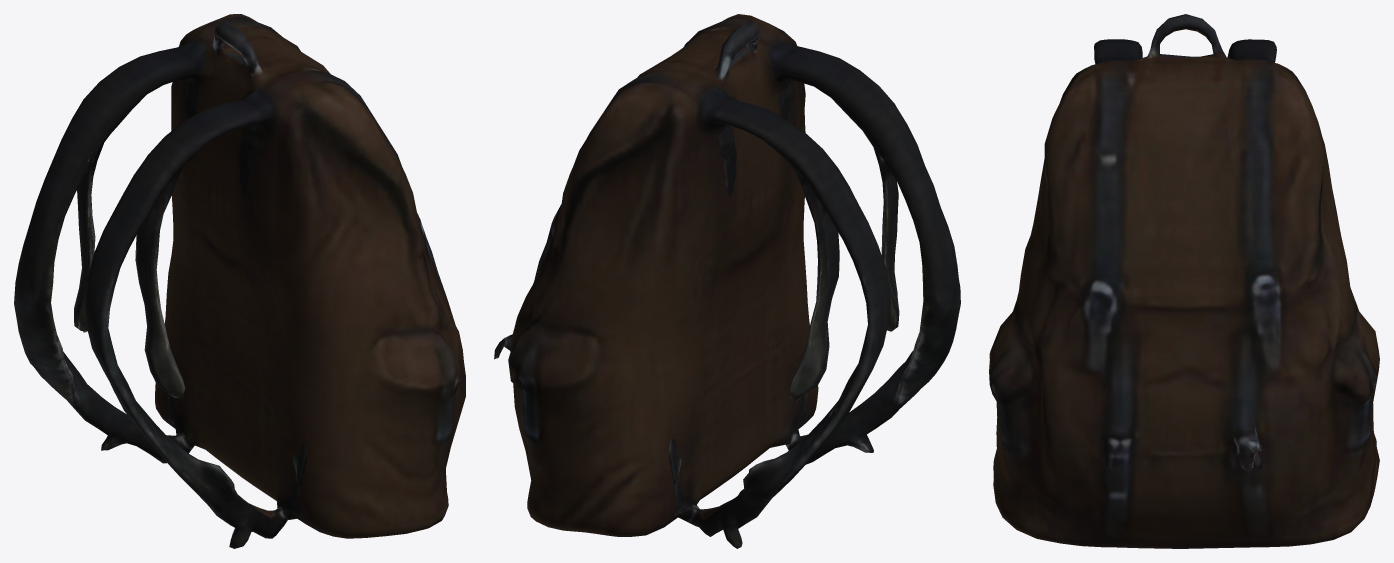
File: backpack2.fbx
The picture shows the model from 3 angles, left to right: view 1: azimuth 30°, elevation 25°; view 2: azimuth 150°, elevation 25°; view 3: azimuth 270°, elevation 25°; orthographic projection.
Visible parts, largest first — view 1: mesh; view 2: mesh; view 3: mesh.
Boxes of the visible parts, left/top/right/bottom form: mesh: left=14, top=14, right=465, bottom=548; mesh: left=494, top=14, right=960, bottom=548; mesh: left=989, top=14, right=1379, bottom=548.
Size of the model in its own units: 84.63 by 99.39 by 75.49.
